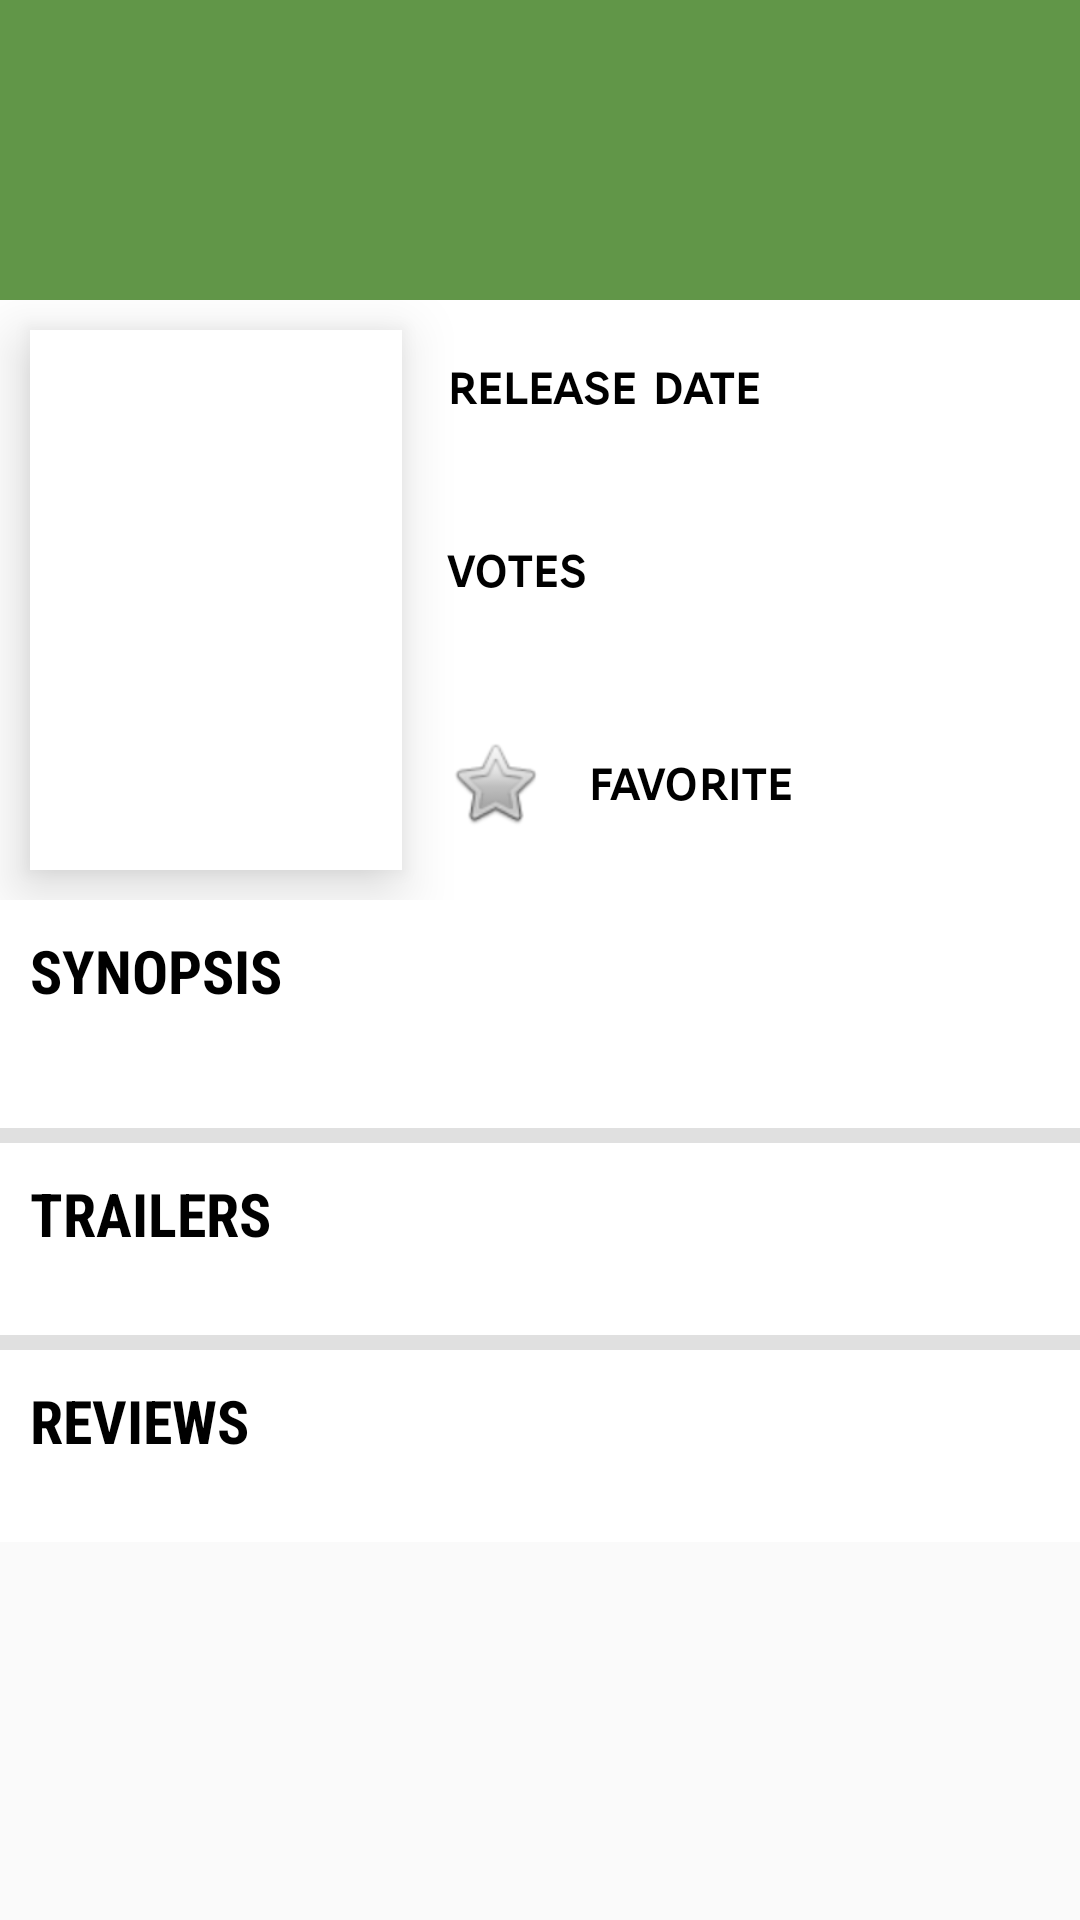

Icons on this 1080×1920 Android screen, each with its box as Rect(x1, y1, x2, y2):
star off: Rect(456, 745, 536, 823)
